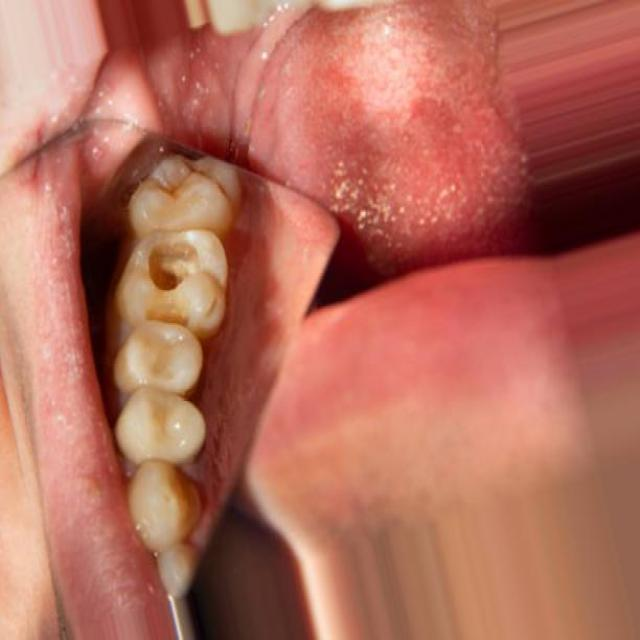caries: (132, 218, 223, 332)
